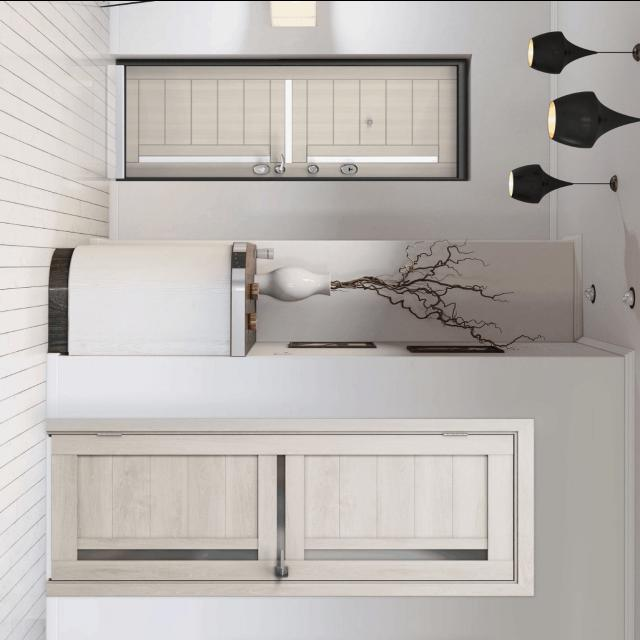close: (40, 423, 522, 592), (115, 55, 468, 178)
